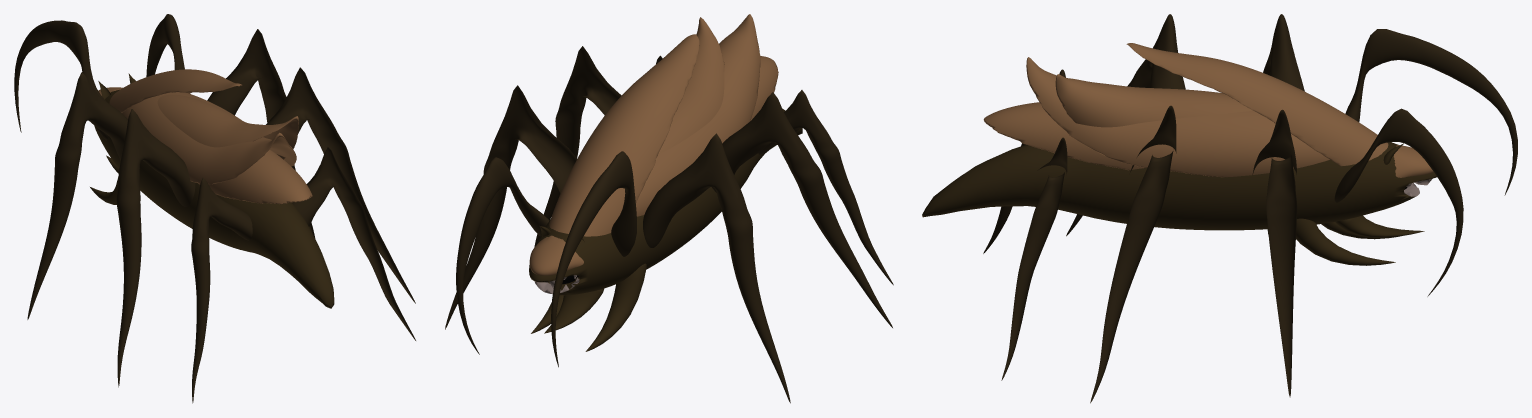
The model's file is Cafard.fbx.
3 renders of one model, left to right at view 1: azimuth 30°, elevation 25°; view 2: azimuth 150°, elevation 25°; view 3: azimuth 270°, elevation 25°, orthographic. The views are drawn at different scales.
Visible parts, largest first — view 1: Cafard simple; view 2: Cafard simple; view 3: Cafard simple.
Boxes of the visible parts, x1,y1,x2,y2 form: Cafard simple: (14, 14, 415, 403); Cafard simple: (445, 14, 893, 403); Cafard simple: (922, 14, 1517, 403).
Bounding box in the file's own units: 710 × 541 × 1069.
